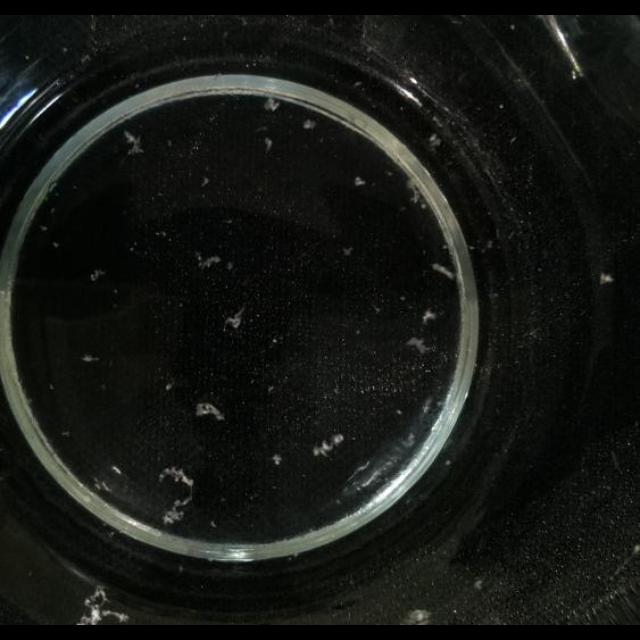Fibre: (157, 466, 195, 524), (76, 586, 128, 624), (88, 462, 132, 502), (314, 434, 344, 458), (195, 401, 225, 421), (222, 304, 245, 330), (124, 130, 144, 154), (404, 336, 430, 354), (432, 263, 456, 281), (407, 184, 425, 208), (198, 254, 222, 270), (262, 96, 280, 112), (422, 310, 436, 324), (90, 270, 104, 282), (302, 118, 316, 130), (428, 134, 442, 146), (262, 138, 272, 152)
microbeads: (405, 608, 431, 624), (599, 272, 613, 284), (82, 353, 100, 362), (270, 454, 282, 466), (354, 176, 366, 187), (472, 579, 483, 591)
